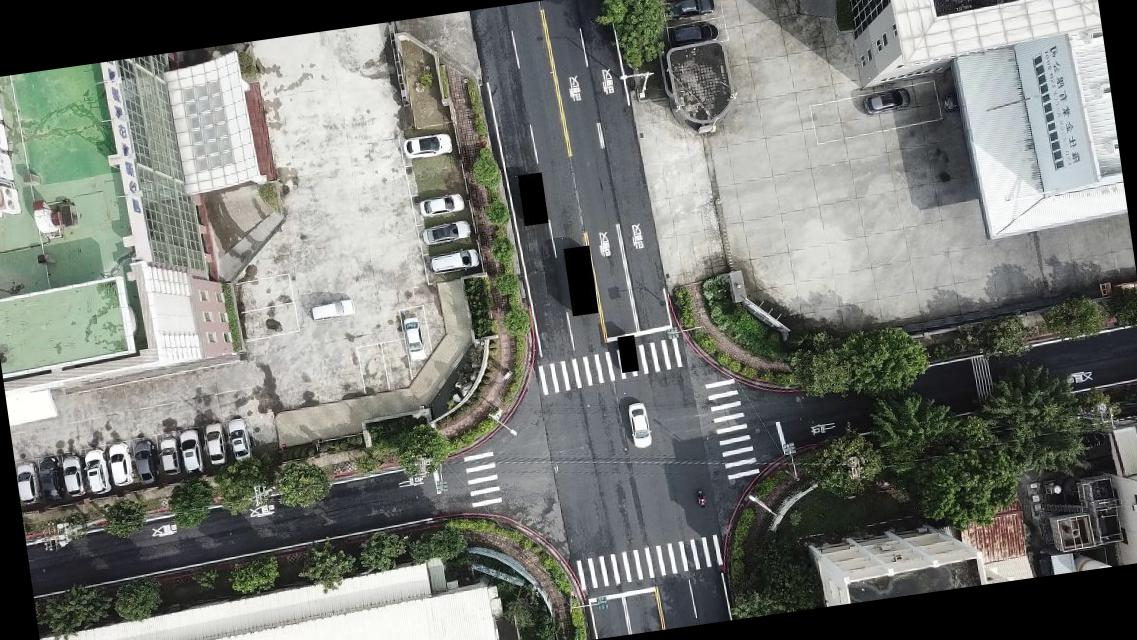vehicle: (858, 86, 912, 118), (624, 400, 656, 450), (427, 246, 480, 275), (403, 131, 455, 160), (666, 19, 720, 46), (420, 218, 472, 246), (401, 313, 430, 363), (130, 436, 160, 484), (35, 454, 63, 502), (225, 414, 253, 461), (177, 427, 206, 472), (309, 298, 358, 324), (419, 192, 467, 218), (106, 440, 132, 486), (60, 452, 86, 498), (15, 462, 42, 506), (202, 421, 227, 468), (665, 0, 718, 21), (156, 436, 181, 477), (942, 90, 960, 110)
